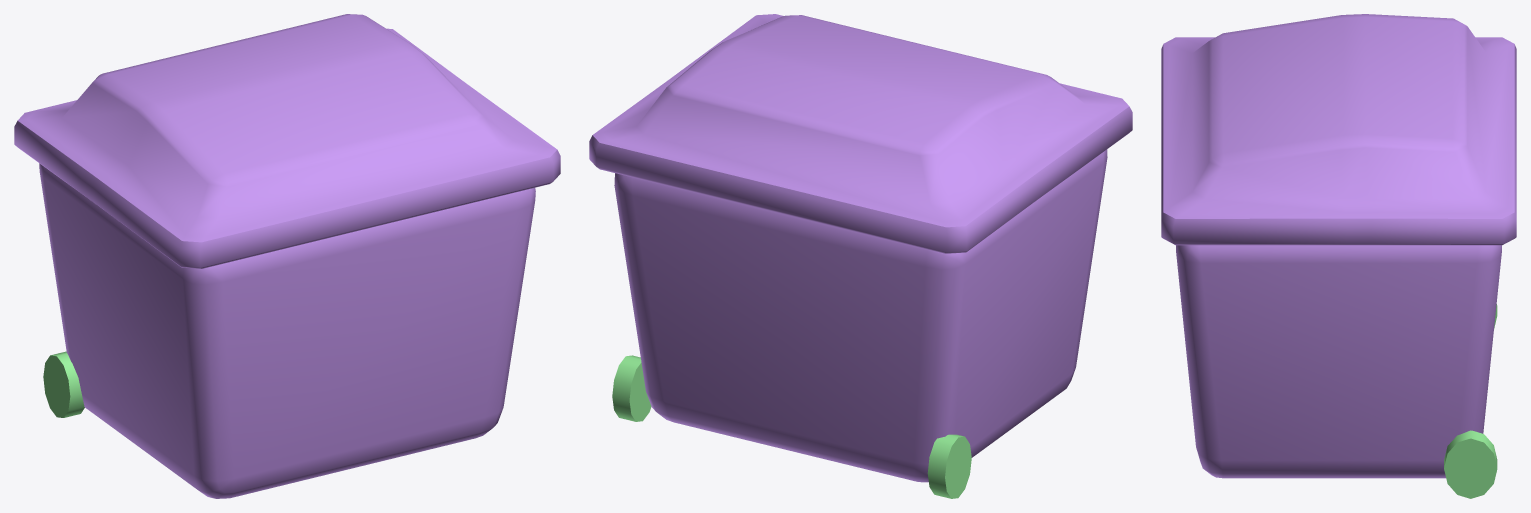
The model's file is bigPoubelle.FBX.
The picture shows the model from 3 angles, left to right: view 1: azimuth 30°, elevation 25°; view 2: azimuth 150°, elevation 25°; view 3: azimuth 270°, elevation 25°; orthographic projection.
Parts seen in each view (by area): view 1: BigPoubelle; view 2: BigPoubelle; view 3: BigPoubelle.
Part boxes in pixels (x1=…): BigPoubelle: x1=14, y1=14, x2=560, y2=498; BigPoubelle: x1=589, y1=14, x2=1132, y2=498; BigPoubelle: x1=1161, y1=14, x2=1516, y2=498.
Size of the model in its own units: 4.8 by 4.15 by 3.92.
